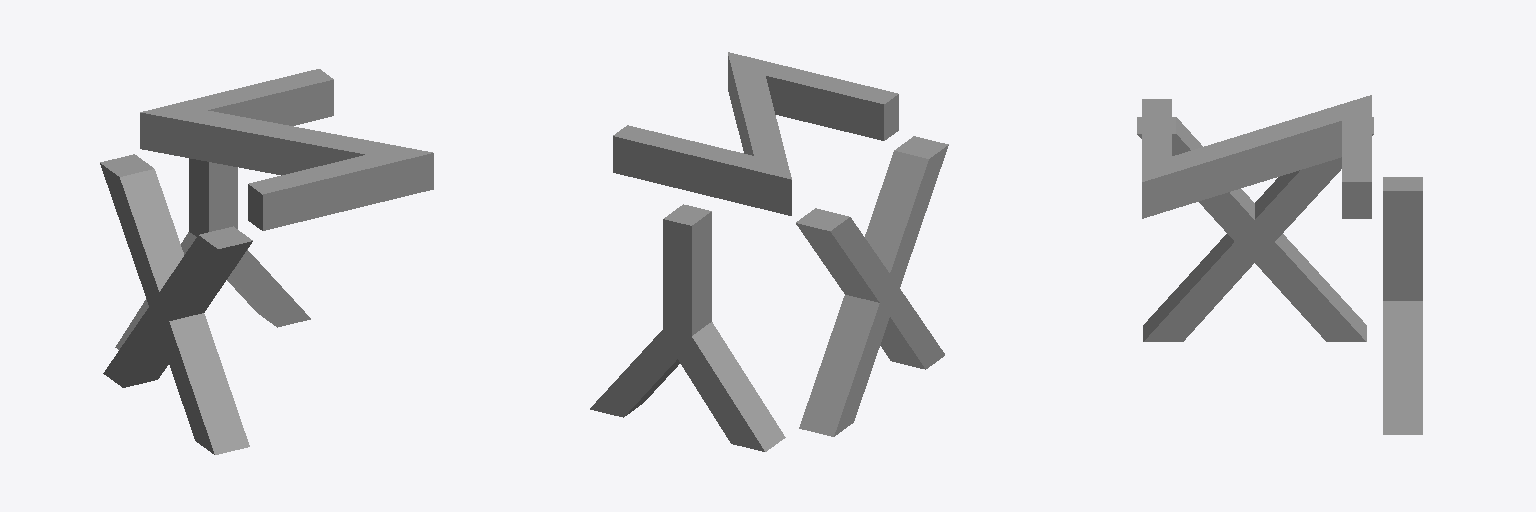
The model's file is identify_object.obj.
The picture shows the model from 3 angles: view 1: azimuth 30°, elevation 25°; view 2: azimuth 150°, elevation 25°; view 3: azimuth 270°, elevation 25°; orthographic projection.
Parts seen in each view (by area): view 1: Text, Text.002, Text.001; view 2: Text.002, Text, Text.001; view 3: Text.002, Text, Text.001.
Part boxes in pixels (bbox=[...]): Text: bbox=[140, 69, 433, 230]; Text.002: bbox=[100, 154, 252, 454]; Text.001: bbox=[115, 158, 310, 349]; Text.002: bbox=[796, 136, 948, 436]; Text: bbox=[613, 52, 898, 215]; Text.001: bbox=[590, 204, 785, 451]; Text.002: bbox=[1137, 117, 1373, 341]; Text: bbox=[1142, 95, 1371, 218]; Text.001: bbox=[1383, 177, 1422, 434].
Size of the model in its own units: 0.7493 by 0.8317 by 0.8502.